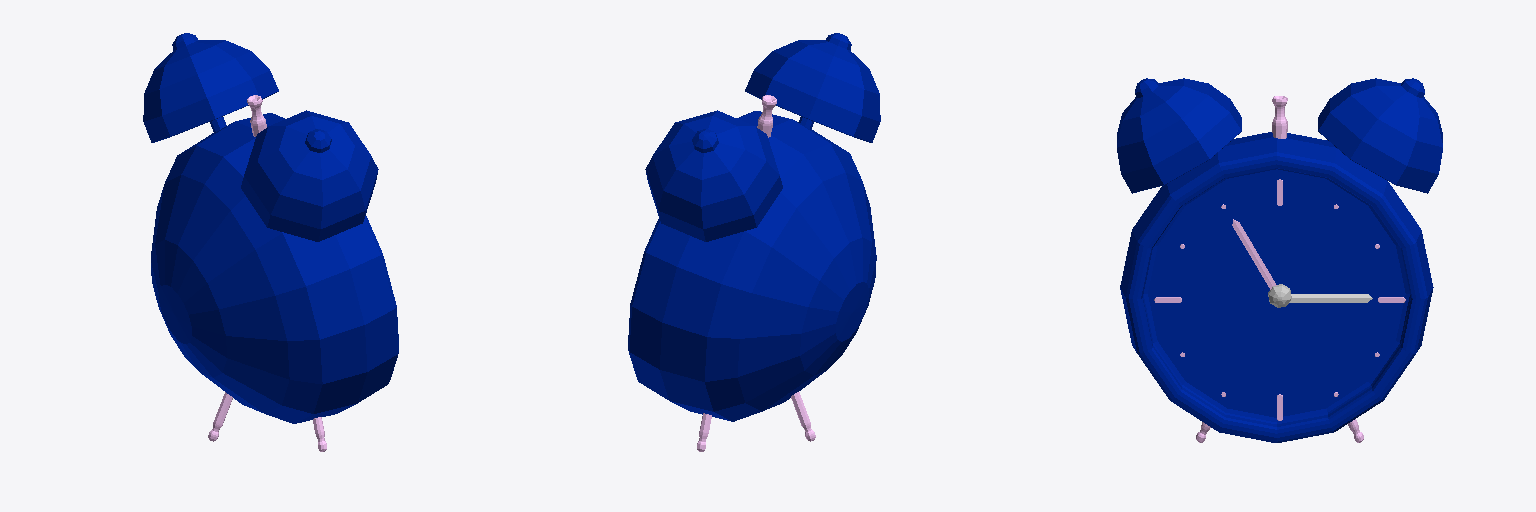
The picture shows the model from 3 angles: view 1: azimuth 30°, elevation 25°; view 2: azimuth 150°, elevation 25°; view 3: azimuth 270°, elevation 25°; orthographic projection.
Parts seen in each view (by area): view 1: Clock.002, Bells; view 2: Clock.002, Bells; view 3: Clock.002, Bells, Numbers.001, Arrows_Large, Arrows_Small, Button.001.
Part boxes in pixels (left/top/right/bottom): Clock.002: left=151, top=113, right=398, bottom=423; Bells: left=143, top=33, right=378, bottom=241; Clock.002: left=628, top=111, right=876, bottom=421; Bells: left=645, top=33, right=880, bottom=241; Clock.002: left=1120, top=132, right=1433, bottom=442; Bells: left=1117, top=78, right=1442, bottom=193; Numbers.001: left=1154, top=179, right=1405, bottom=420; Arrows_Large: left=1289, top=294, right=1372, bottom=302; Arrows_Small: left=1232, top=219, right=1276, bottom=289; Button.001: left=1272, top=96, right=1287, bottom=138.
Bounding box in the file's own units: 0.6318 × 1.21 × 1.03.
4 materials, 1 textured.